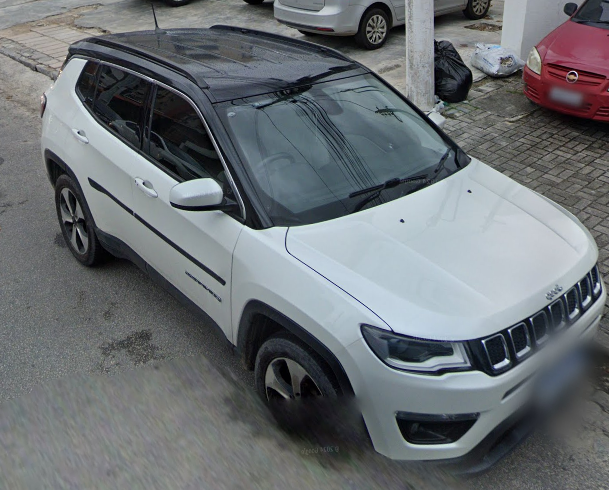car: (36, 24, 609, 465)
